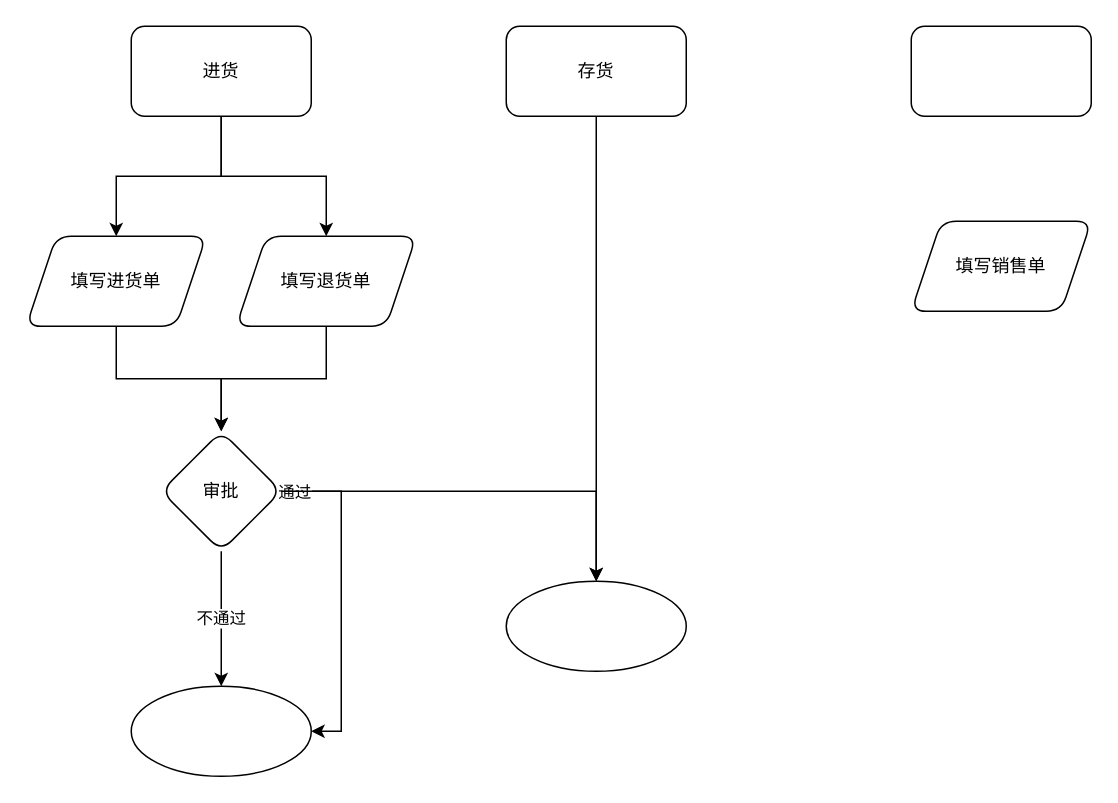
Some shapes in this 1118 by 803 pixel diagram are drawn without their labels. The shapes that lost their labels are listed below. From the top down, each one's box as (x1, y1, x2, y2) in pixels, then its label:
(910, 25, 1091, 116): 销售
(505, 580, 686, 671): 更新库存
(130, 685, 311, 776): 更新进退货单状态
